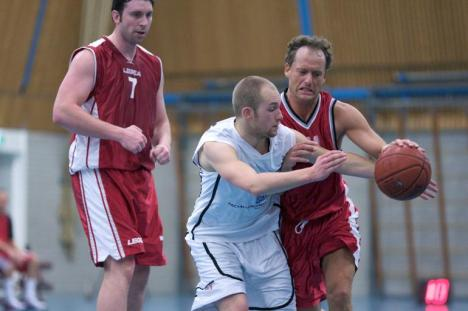basketball: (376, 143, 432, 201)
